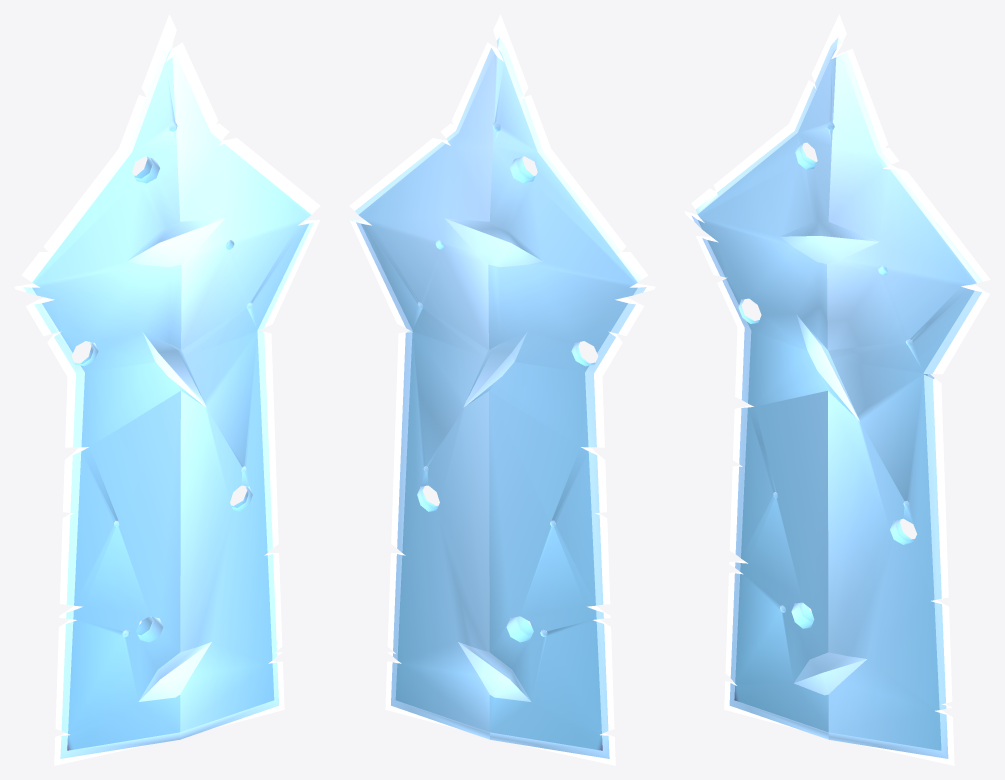
File: steel_blade_bubbles_047.glb
3 renders of one model, left to right at view 1: azimuth 30°, elevation 25°; view 2: azimuth 150°, elevation 25°; view 3: azimuth 330°, elevation 25°, orthographic.
Visible parts, largest first — view 1: steel_blade_bubbles.047; view 2: steel_blade_bubbles.047; view 3: steel_blade_bubbles.047.
Part boxes in pixels (box(x1,y1,x2,y2)): steel_blade_bubbles.047: box(14, 14, 320, 765); steel_blade_bubbles.047: box(349, 14, 655, 765); steel_blade_bubbles.047: box(684, 14, 990, 765).
Bounding box in the file's own units: 5.19 × 11.76 × 0.723.
1 material, 1 textured.
